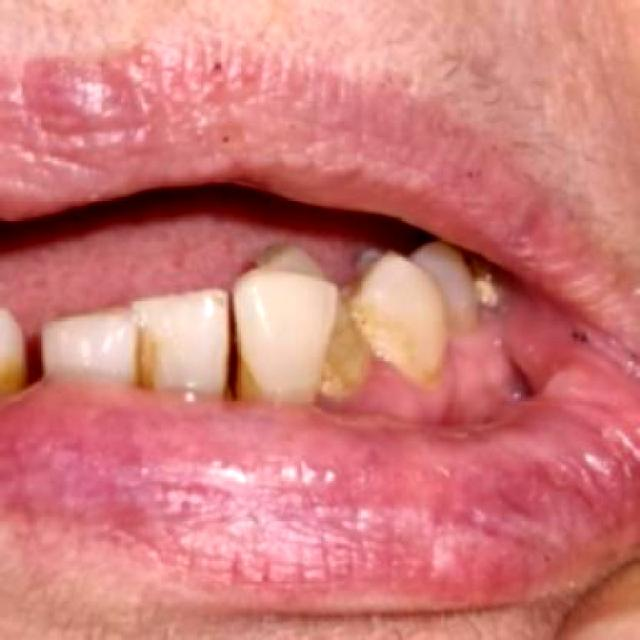Plaque: (319, 349, 479, 411)
